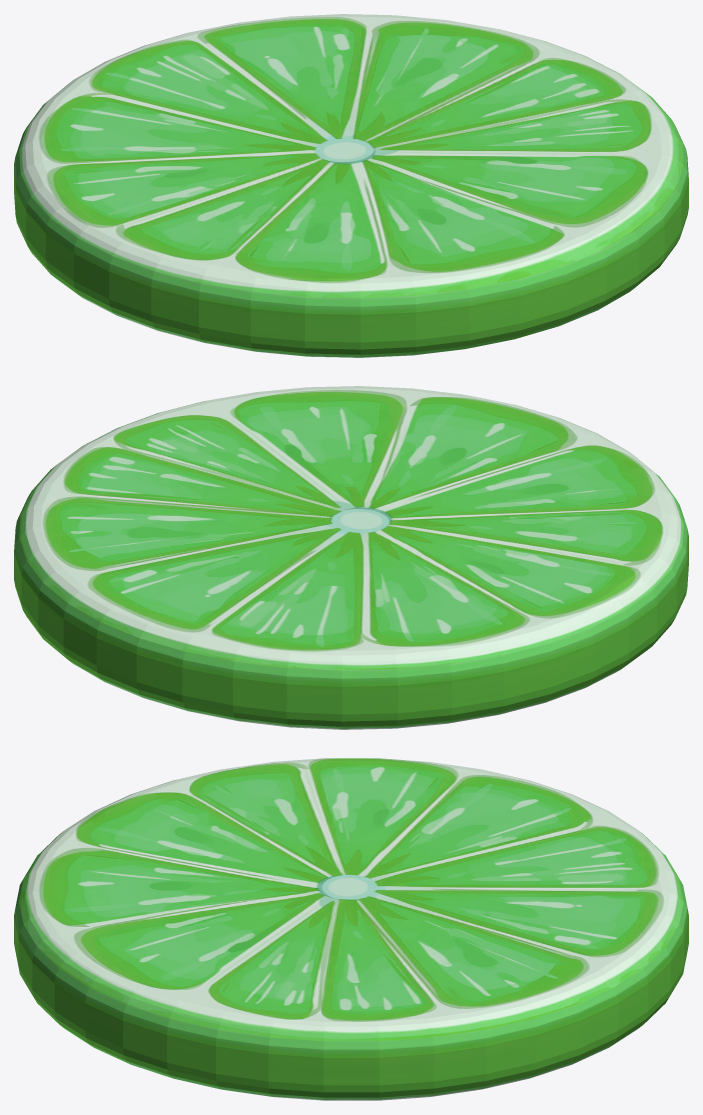
File: lime-slice.glb
3 renders of one model, top to bottom at view 1: azimuth 30°, elevation 25°; view 2: azimuth 150°, elevation 25°; view 3: azimuth 270°, elevation 25°, orthographic.
Visible parts, largest first — view 1: Cylinder; view 2: Cylinder; view 3: Cylinder.
Part boxes in pixels (x1,y1,x2,y2): Cylinder: (14, 14, 688, 357); Cylinder: (14, 386, 688, 729); Cylinder: (14, 758, 688, 1100).
Size of the model in its own units: 1.99 by 0.25 by 2.
Materials: 1 (1 with a texture image).
